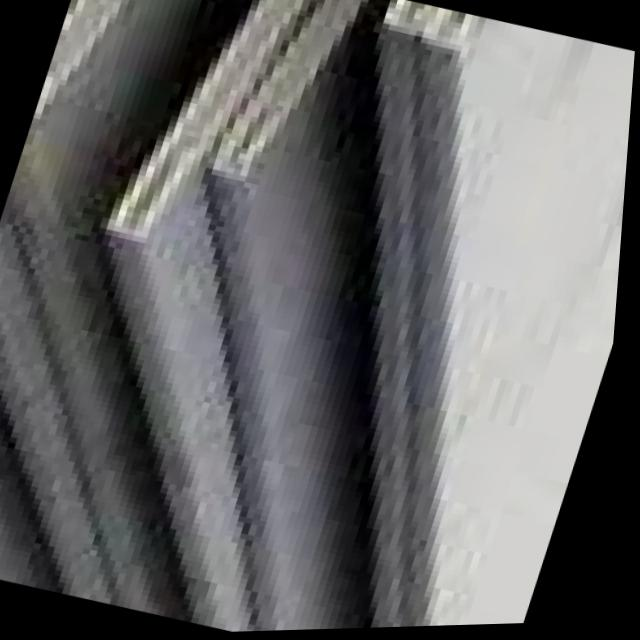metal-plates: (1, 1, 637, 634)
